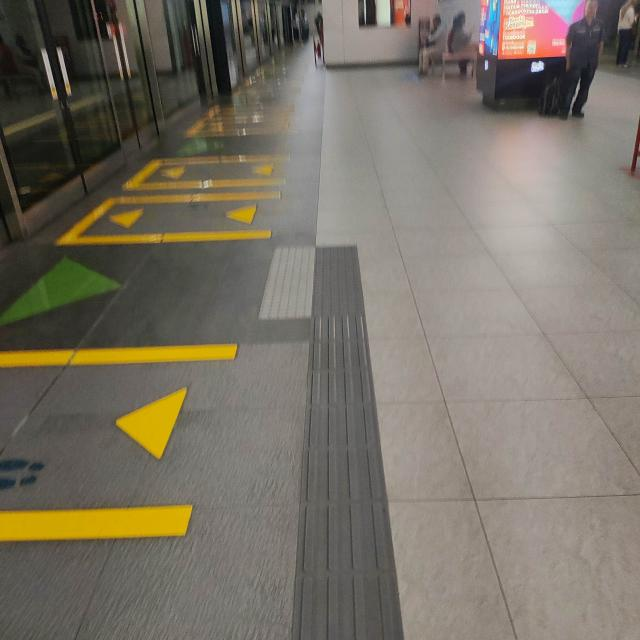lurus: (301, 240, 388, 632)
